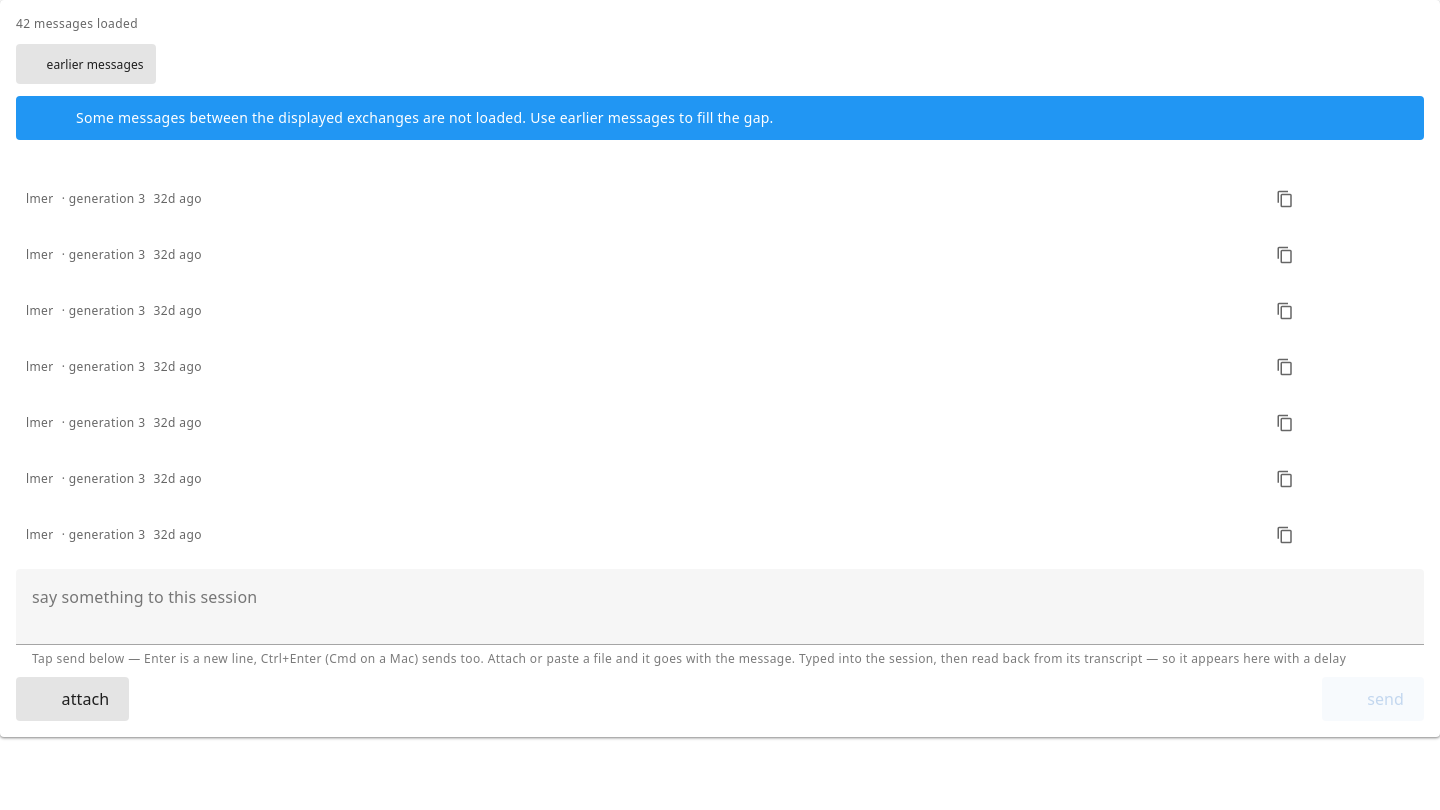
Test case: fills a busy replacement and a skipped generation without hiding the gap
(page scrolled)
Click the button "earlier messages".
click(86, 64)  # box left=16, top=44, right=156, bottom=84
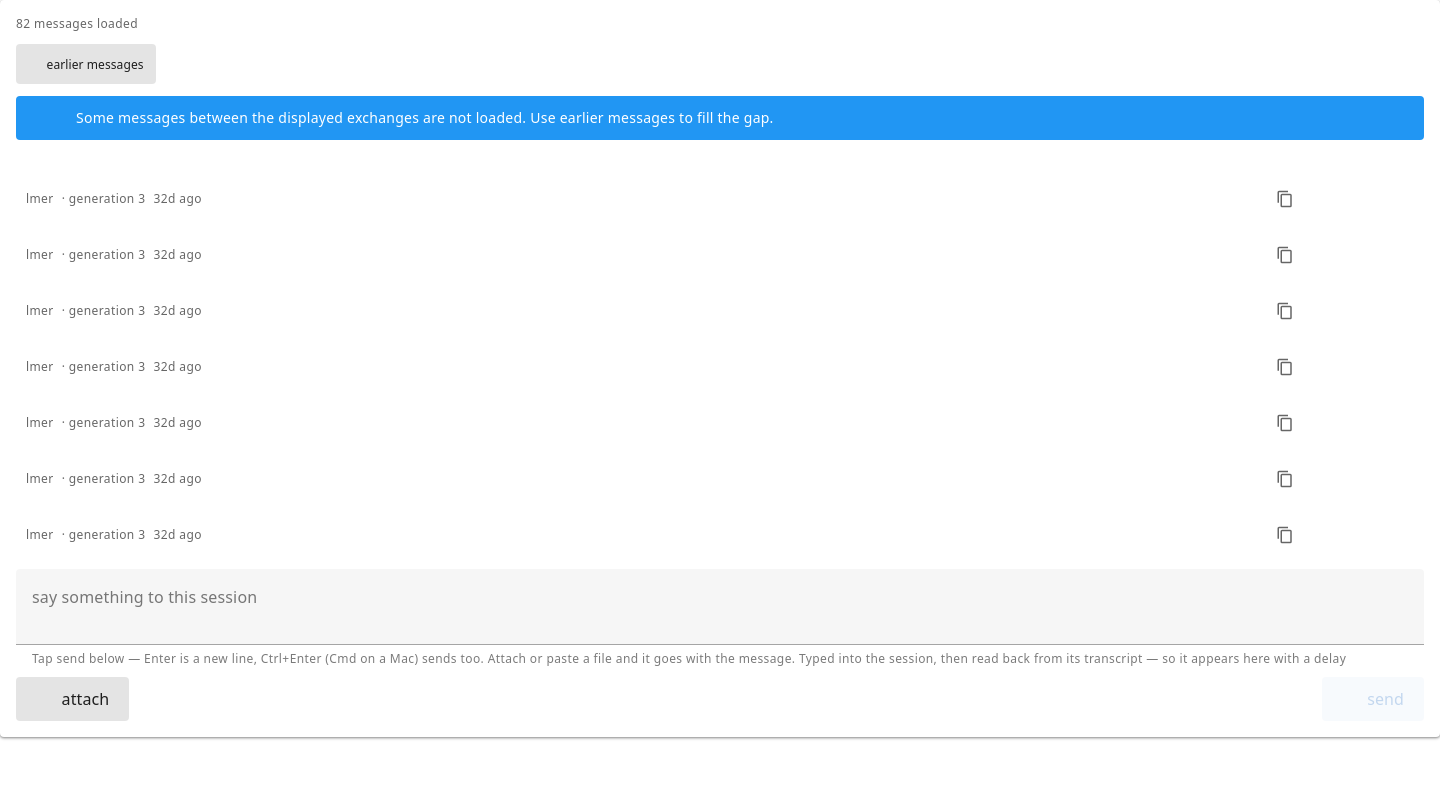
Click the button "earlier messages".
click(86, 64)  # box left=16, top=44, right=156, bottom=84
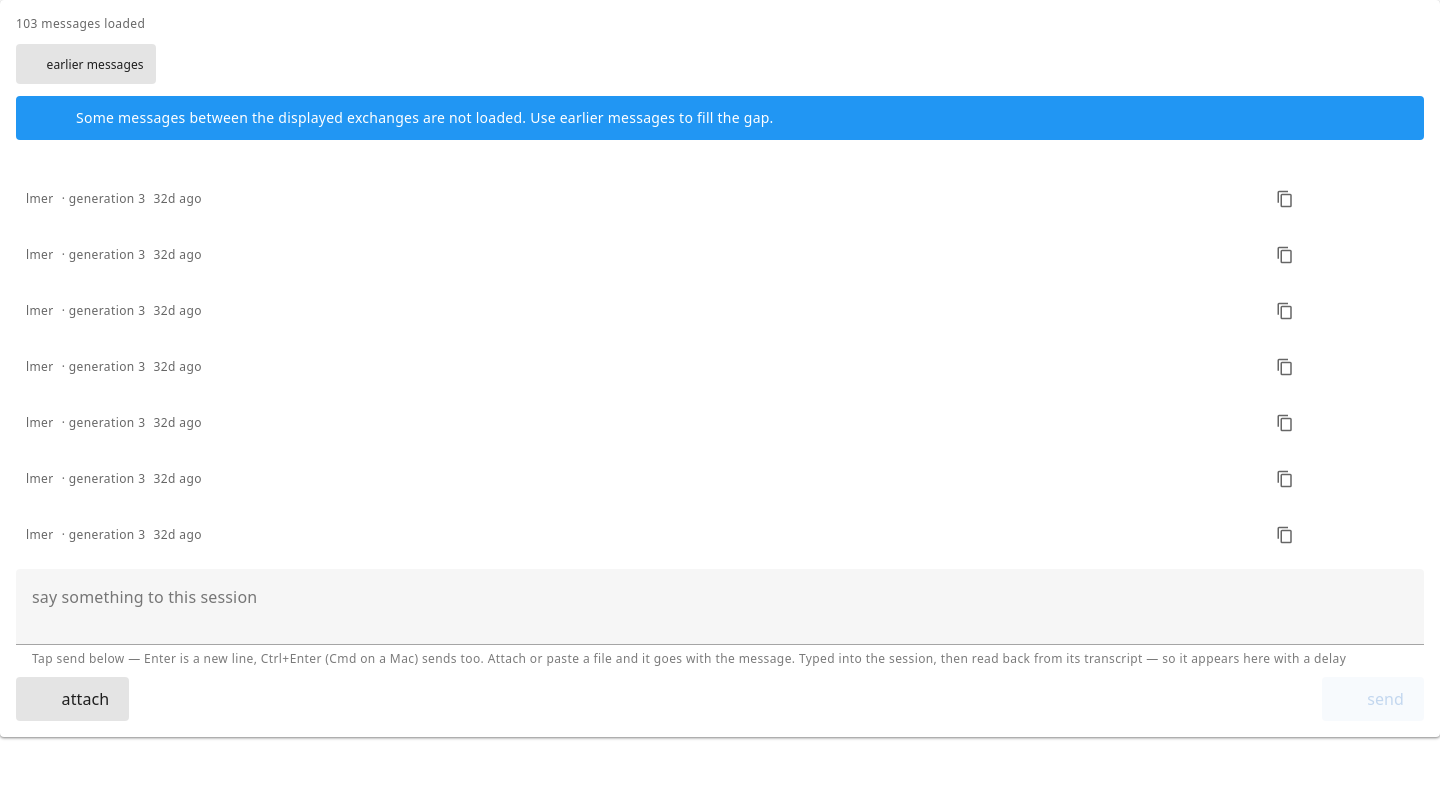
Click the button "earlier messages".
click(86, 64)  # box left=16, top=44, right=156, bottom=84
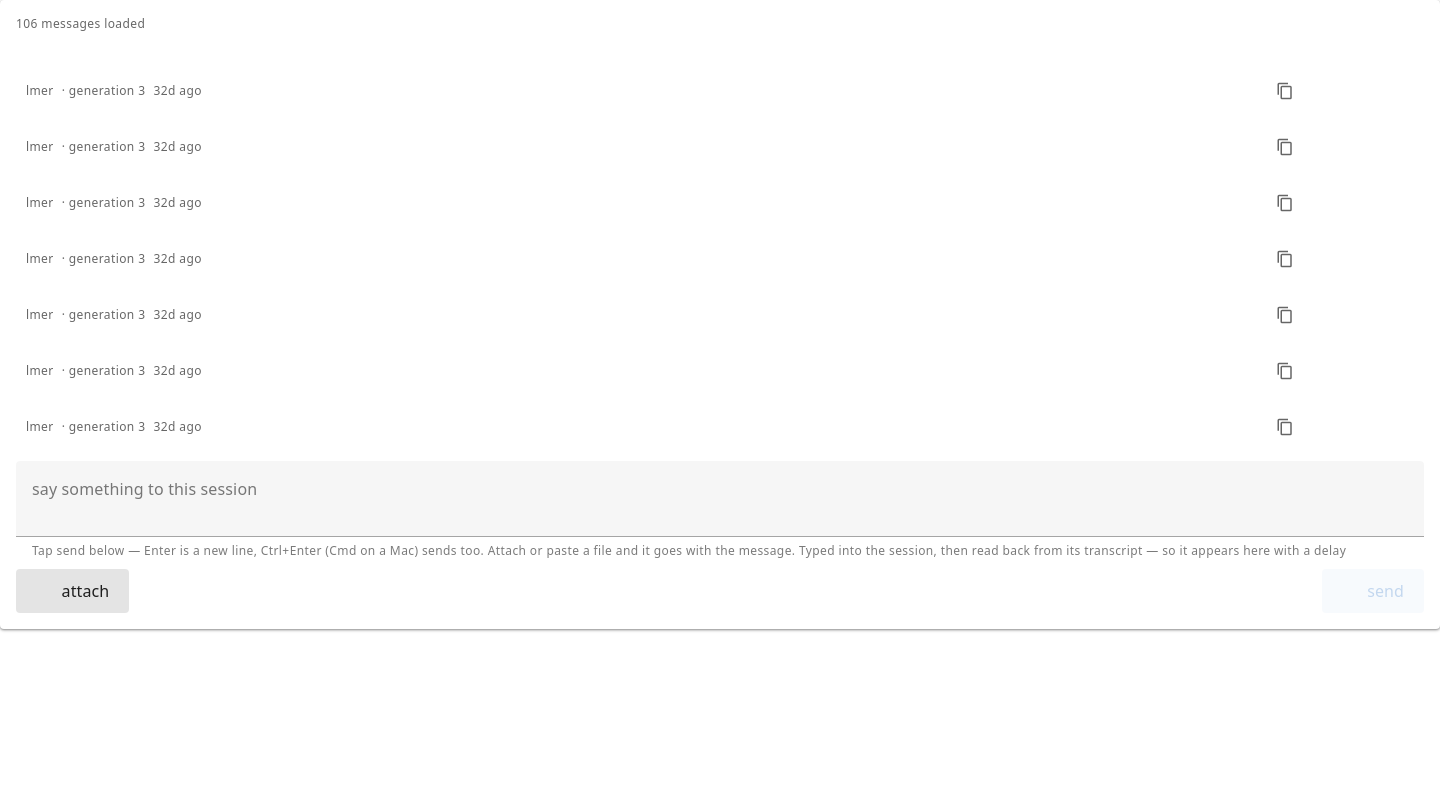
Now the text "fill the gap" is gone
